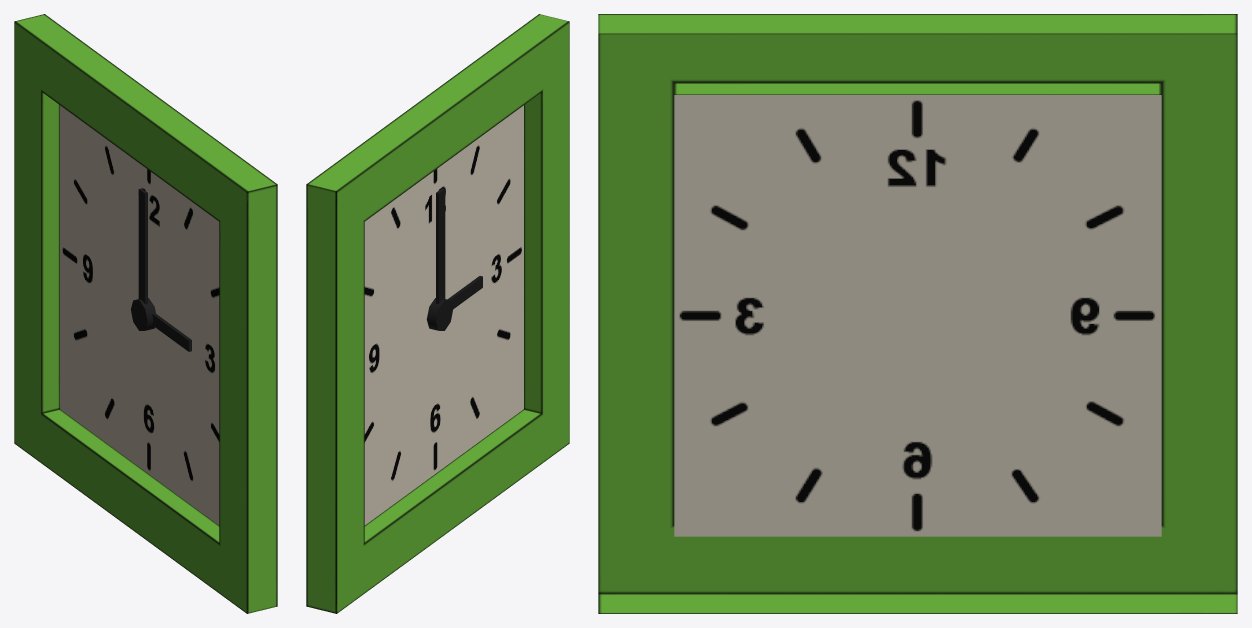
File: clock_green.fbx
The picture shows the model from 3 angles, left to right: view 1: azimuth 30°, elevation 25°; view 2: azimuth 150°, elevation 25°; view 3: azimuth 270°, elevation 25°; orthographic projection. The views are drawn at different scales.
Parts seen in each view (by area): view 1: clockGreen, clockGreen_minute, clockGreen_hour; view 2: clockGreen, clockGreen_minute, clockGreen_hour; view 3: clockGreen.
Part boxes in pixels (x1=…): clockGreen: x1=14, y1=14, x2=277, y2=613; clockGreen_minute: x1=138, y1=188, x2=147, y2=303; clockGreen_hour: x1=152, y1=313, x2=191, y2=351; clockGreen: x1=306, y1=14, x2=569, y2=613; clockGreen_minute: x1=436, y1=188, x2=445, y2=303; clockGreen_hour: x1=447, y1=276, x2=482, y2=309; clockGreen: x1=598, y1=14, x2=1237, y2=613.
Bounding box in the file's own units: 0.0361 × 0.4765 × 0.4765.
